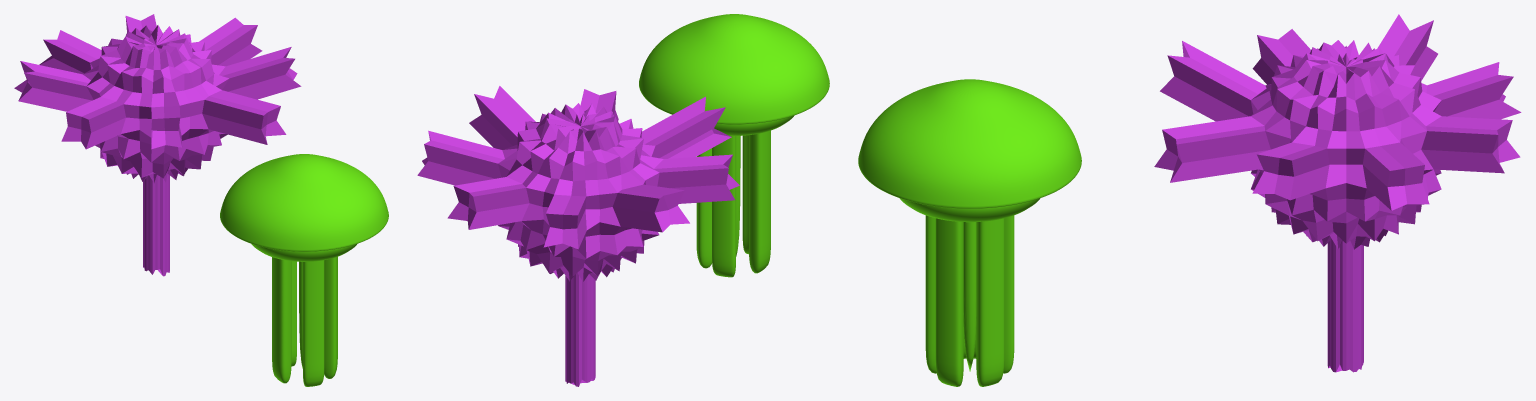
The model's file is PLANTAS.fbx.
The picture shows the model from 3 angles, left to right: view 1: azimuth 30°, elevation 25°; view 2: azimuth 150°, elevation 25°; view 3: azimuth 270°, elevation 25°; orthographic projection. The views are drawn at different scales.
Parts seen in each view (by area): view 1: Sphere.002, Sphere; view 2: Sphere.002, Sphere; view 3: Sphere.002, Sphere.
Boxes of the visible parts, left/top/right/bottom form: Sphere.002: left=14, top=14, right=301, bottom=276; Sphere: left=220, top=154, right=388, bottom=386; Sphere.002: left=417, top=86, right=739, bottom=386; Sphere: left=639, top=14, right=829, bottom=277; Sphere.002: left=1154, top=14, right=1521, bottom=372; Sphere: left=858, top=79, right=1081, bottom=386.
Bounding box in the file's own units: 442 × 414 × 796.
